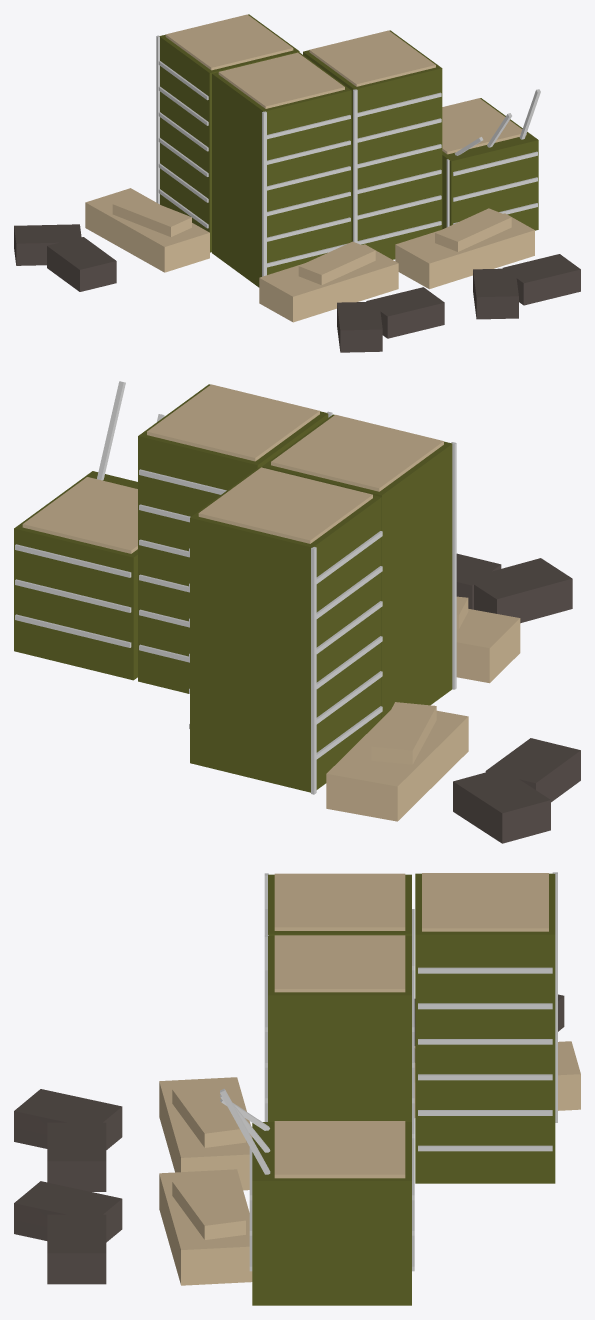
File: SM_HescoRemate_v1_Geotextil_e1_Danado_LOD0.fbx
The picture shows the model from 3 angles, top to bottom: view 1: azimuth 30°, elevation 25°; view 2: azimuth 150°, elevation 25°; view 3: azimuth 270°, elevation 25°; orthographic projection. The views are drawn at different scales.
Parts seen in each view (by area): view 1: SM_hesco_piezas_v25_LOD0; view 2: SM_hesco_piezas_v25_LOD0; view 3: SM_hesco_piezas_v25_LOD0.
Boxes of the visible parts, left/top/right/bottom form: SM_hesco_piezas_v25_LOD0: left=14, top=14, right=580, bottom=352; SM_hesco_piezas_v25_LOD0: left=14, top=381, right=580, bottom=843; SM_hesco_piezas_v25_LOD0: left=14, top=872, right=580, bottom=1305.
Bounding box in the file's own units: 5.25 × 2.13 × 4.33.
